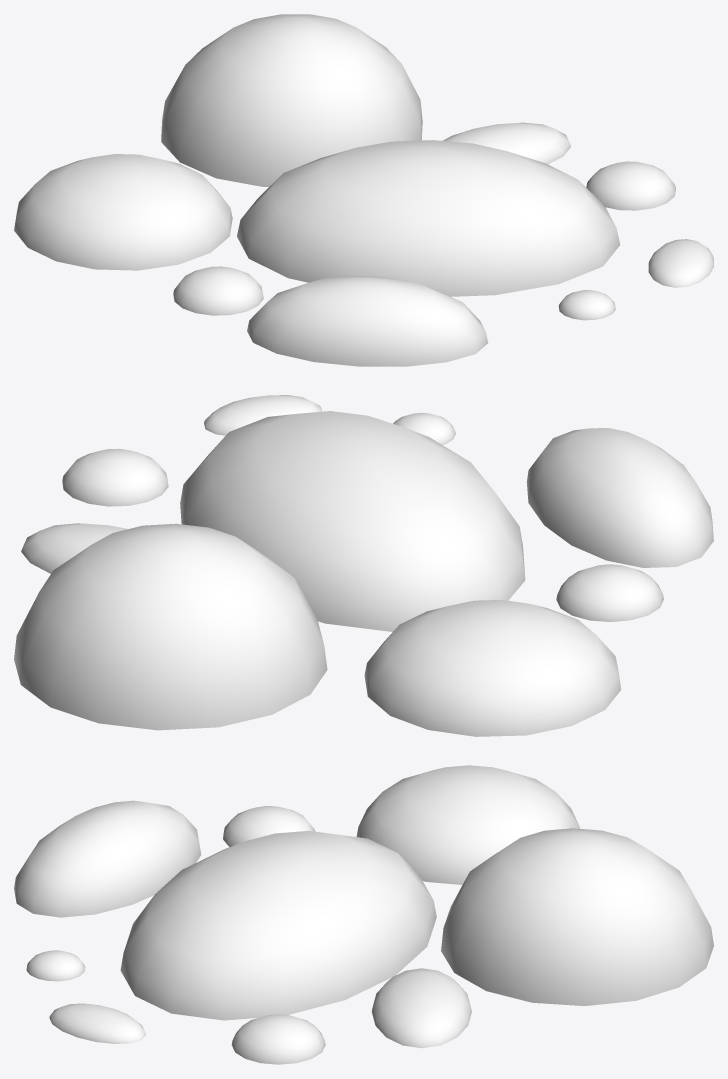
Rendered from Rock_1.fbx.
The picture shows the model from 3 angles, top to bottom: view 1: azimuth 30°, elevation 25°; view 2: azimuth 150°, elevation 25°; view 3: azimuth 270°, elevation 25°; orthographic projection. The views are drawn at different scales.
Parts seen in each view (by area): view 1: Stone_1; view 2: Stone_1; view 3: Stone_1.
Part boxes in pixels (left/top/right/bottom): Stone_1: left=14, top=14, right=713, bottom=366; Stone_1: left=14, top=395, right=713, bottom=736; Stone_1: left=14, top=765, right=713, bottom=1064.
Size of the model in its own units: 1.28 by 0.2335 by 1.38.
